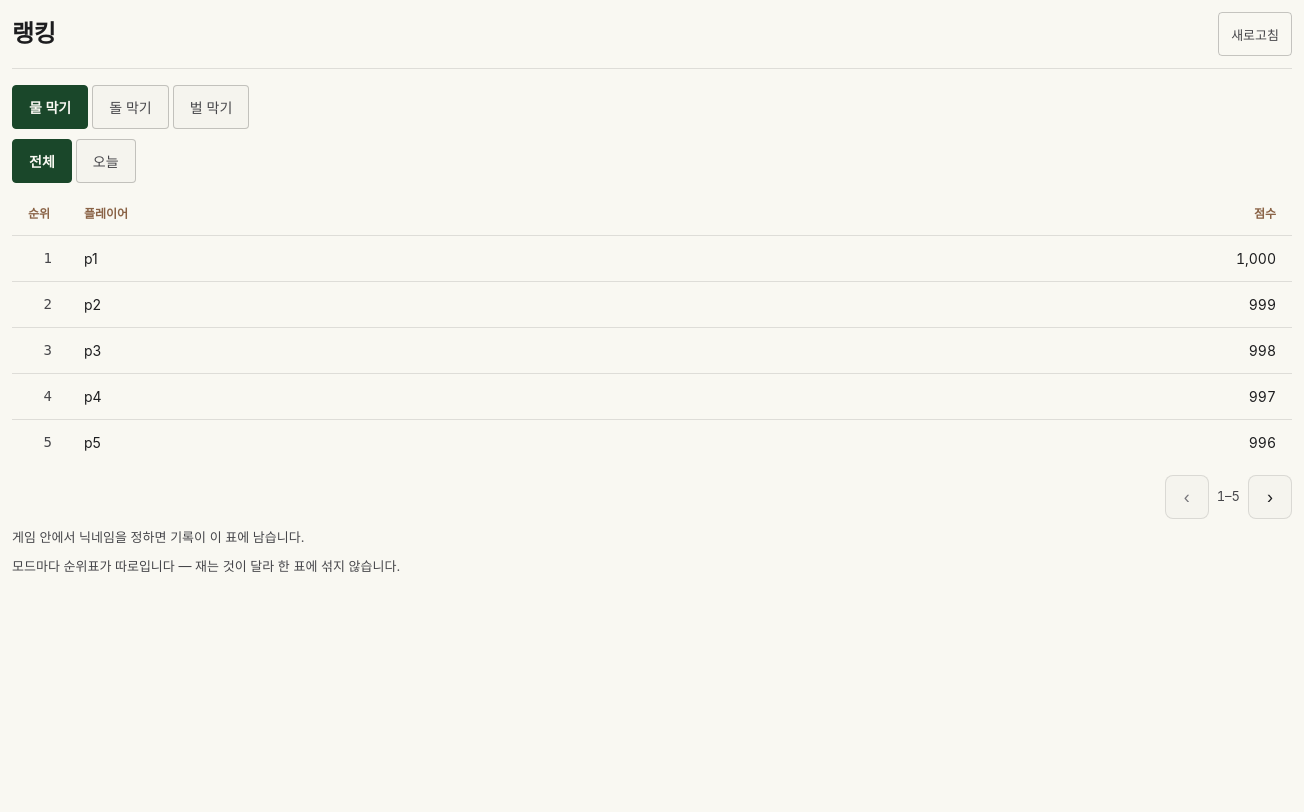
쪽 넘김 (상세 화면의 TOP 5 → TOP 10) › 모드를 바꾸면 첫 쪽으로 돌아간다 — 빈 2쪽이 남으면 기록이 없는 것처럼 보인다
Expected: the text "p1" is shown, [84,250,98,267]
Step 1. Click the button named "다음 순위" → {"x": 1270, "y": 497}, box [1248,475,1292,519]
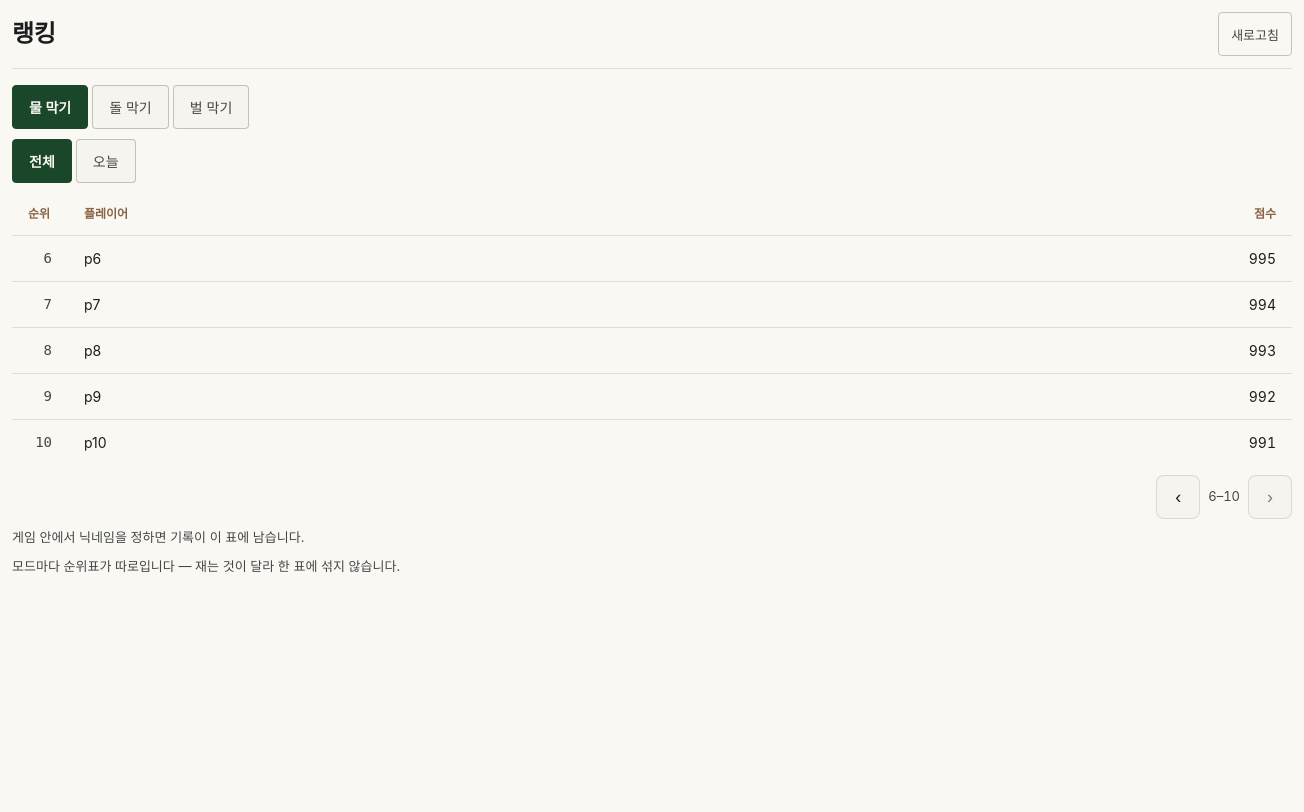
Now the text "6–10" is shown, box [1208,487,1240,507]
Step 2. Click the tab "돌 막기" → {"x": 130, "y": 107}, box [92,85,169,129]
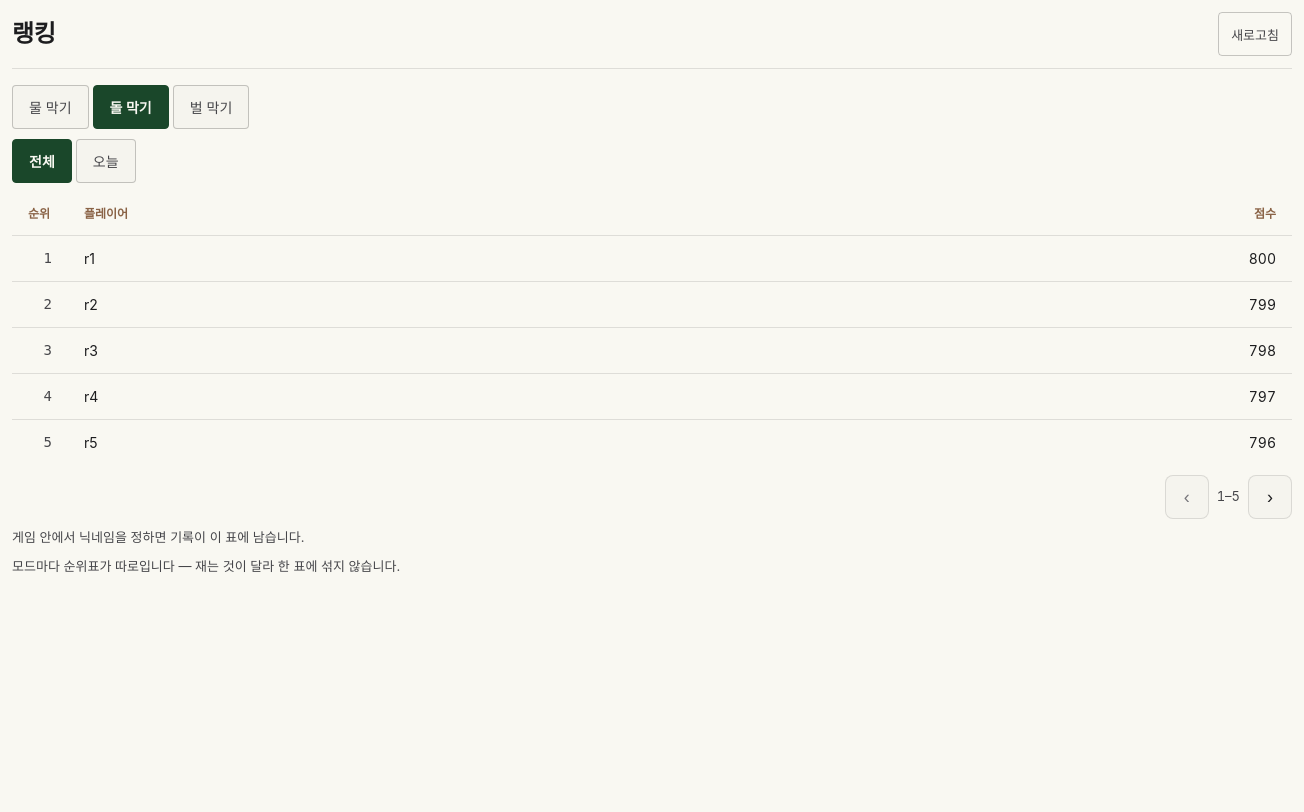
Now the text "r1" is shown, box [84,250,95,267]
Now the text "1–5" is shown, box [1217,487,1240,507]
